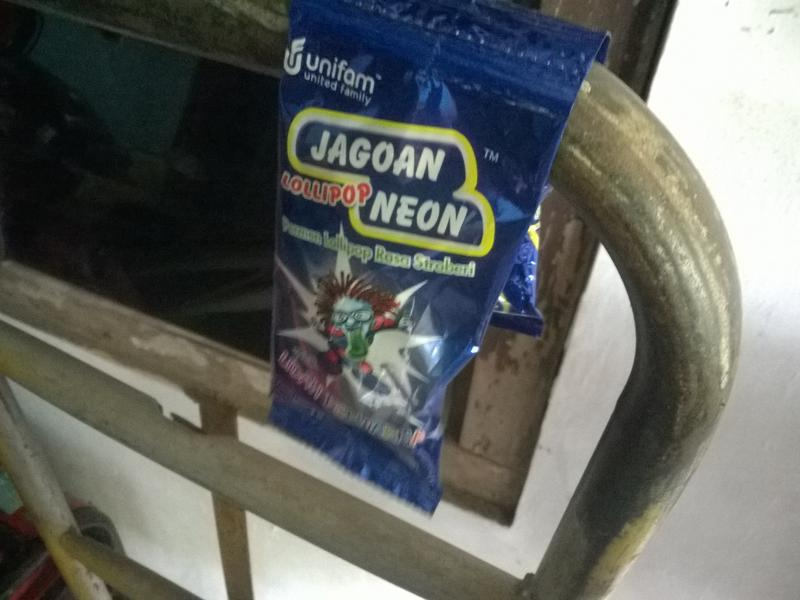jagoan neon: (271, 1, 583, 518)
